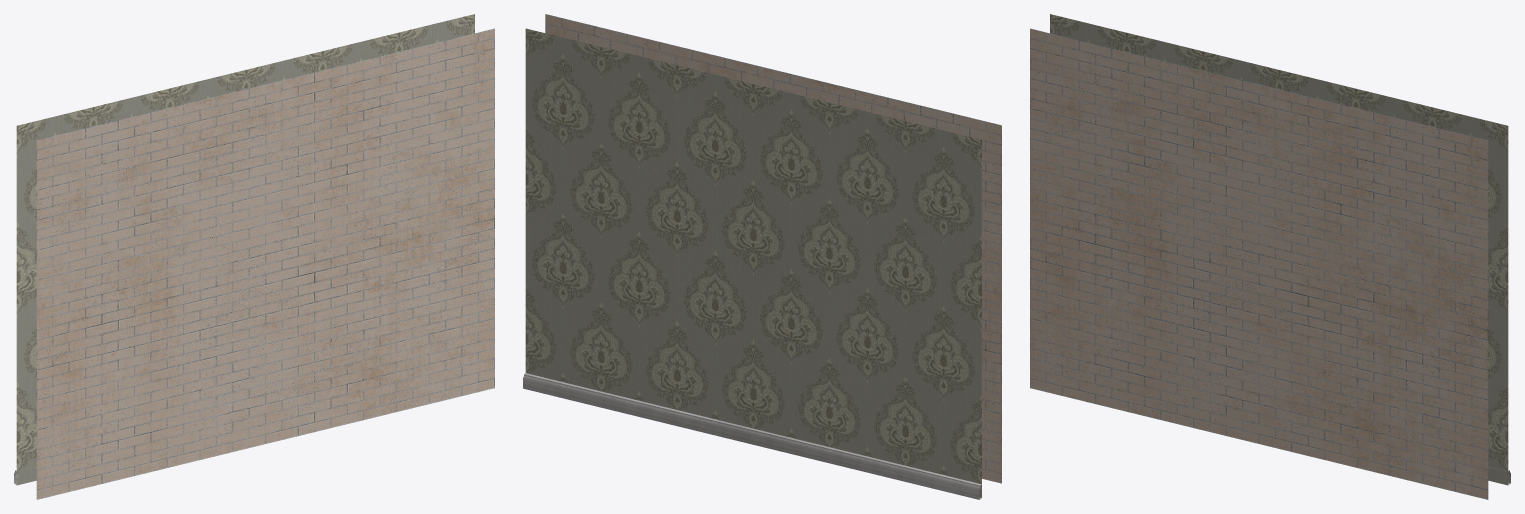
The model's file is House_06_Wall_01.fbx.
3 views of the same model, side by side, from view 1: azimuth 30°, elevation 25°; view 2: azimuth 150°, elevation 25°; view 3: azimuth 330°, elevation 25° (orthographic).
Visible parts, largest first — view 1: House_06_Wall_01; view 2: House_06_Wall_01; view 3: House_06_Wall_01.
Boxes of the visible parts, x1,y1,x2,y2 form: House_06_Wall_01: (14, 14, 494, 499); House_06_Wall_01: (523, 14, 1001, 499); House_06_Wall_01: (1030, 14, 1510, 499).
Bounding box in the file's own units: 400 × 300 × 33.93.
